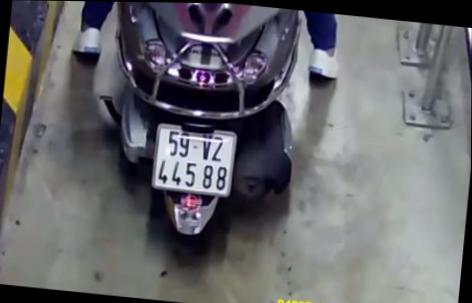LP: (152, 121, 237, 196)
